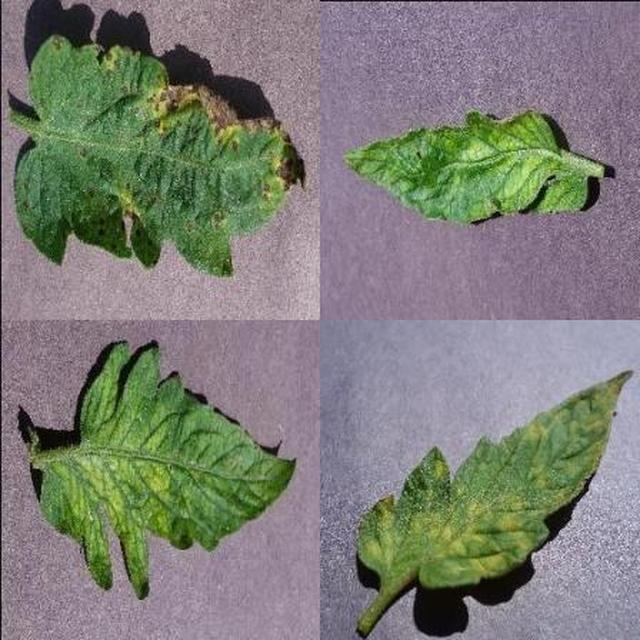Septoria Leaf: (227, 171, 640, 640)
